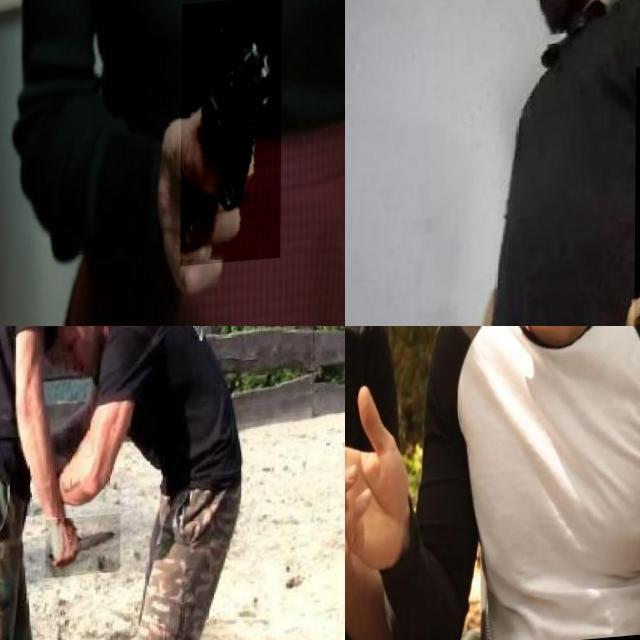-: (345, 391, 386, 567), (46, 522, 121, 584)
gun-knife-thesis - v11 Yolov5 augmented: (181, 2, 282, 270)
